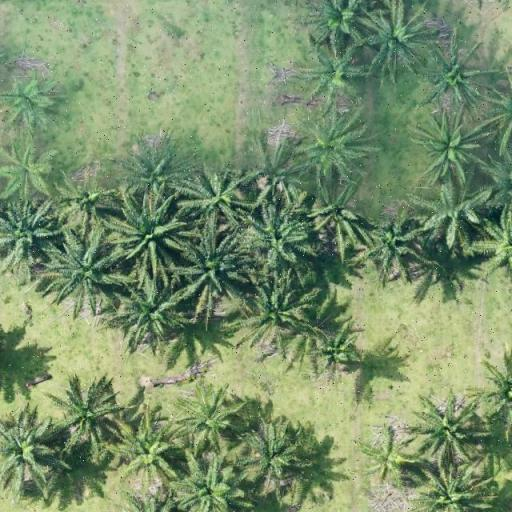Ganoderma: (123, 426, 174, 476), (434, 57, 480, 101), (4, 147, 47, 193), (5, 79, 45, 121), (367, 441, 409, 479)
